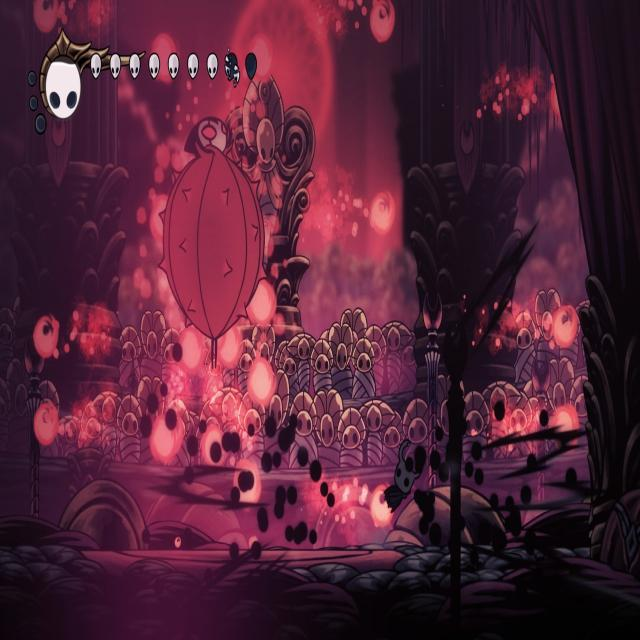Player: (383, 430, 423, 518)
Pufferfish: (150, 114, 268, 375)
Tiny Fireballs: (150, 415, 179, 465), (247, 280, 276, 328), (248, 359, 276, 408), (34, 402, 60, 448), (217, 325, 241, 371), (553, 304, 578, 348), (34, 318, 60, 360), (370, 0, 394, 43), (180, 328, 202, 373), (371, 192, 394, 234), (370, 486, 392, 526), (33, 0, 58, 33)
